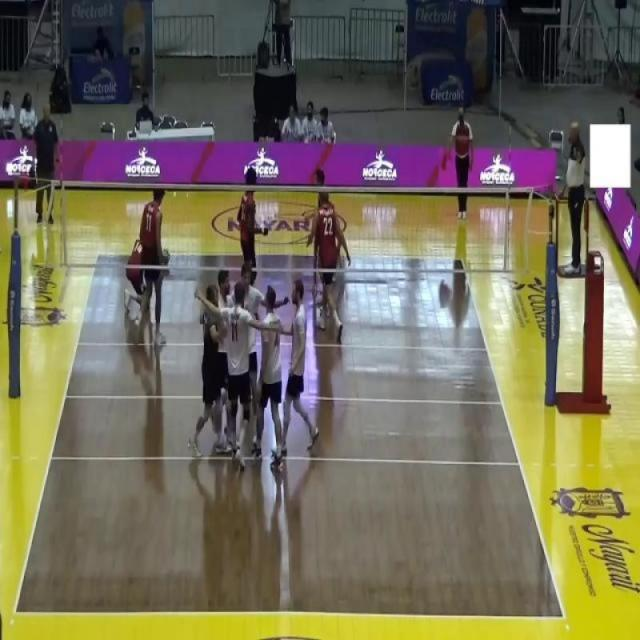volleyball: (162, 248, 170, 264)
